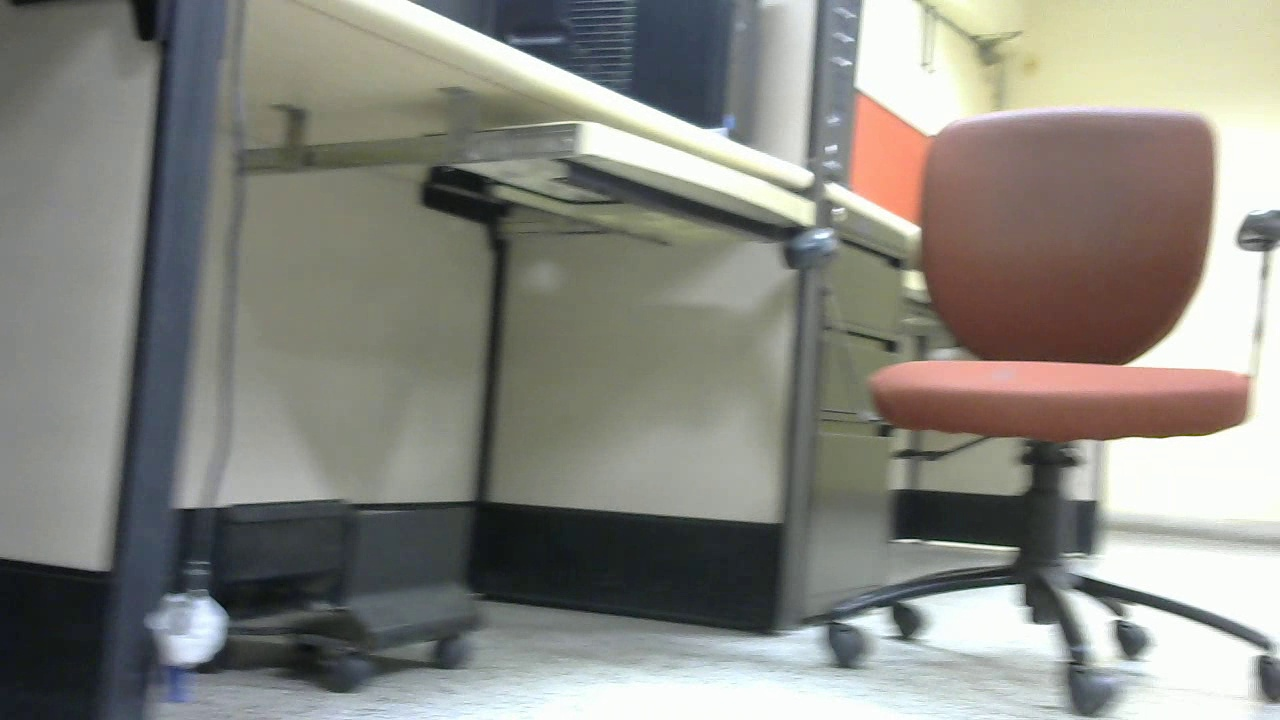chair: (342, 230, 579, 522), (1, 178, 177, 491)
